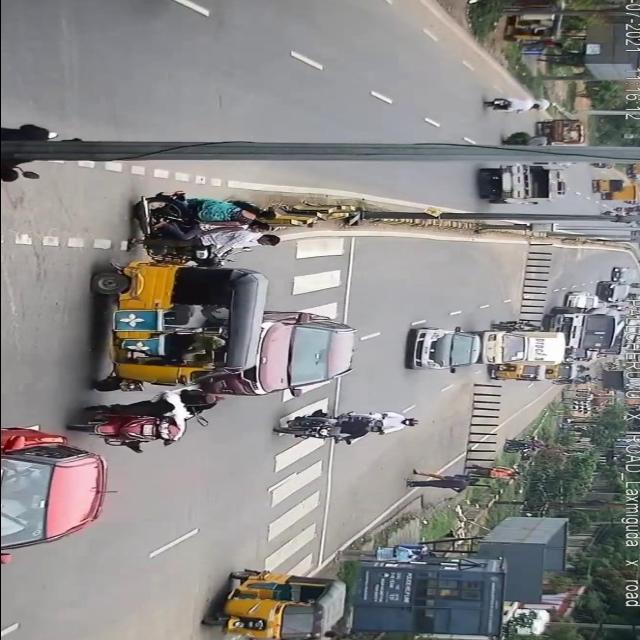accident: (66, 258, 282, 454)
non_accident: (394, 305, 626, 384), (589, 261, 637, 313), (589, 176, 640, 206)
